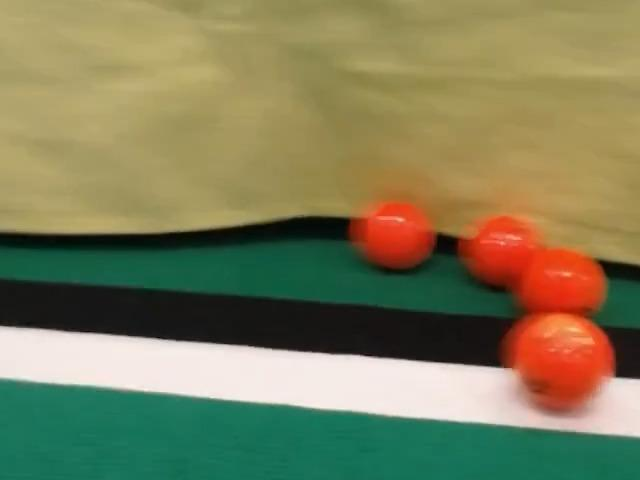Ball: (502, 313, 615, 411), (514, 248, 607, 314), (350, 202, 436, 270), (458, 215, 539, 287)
